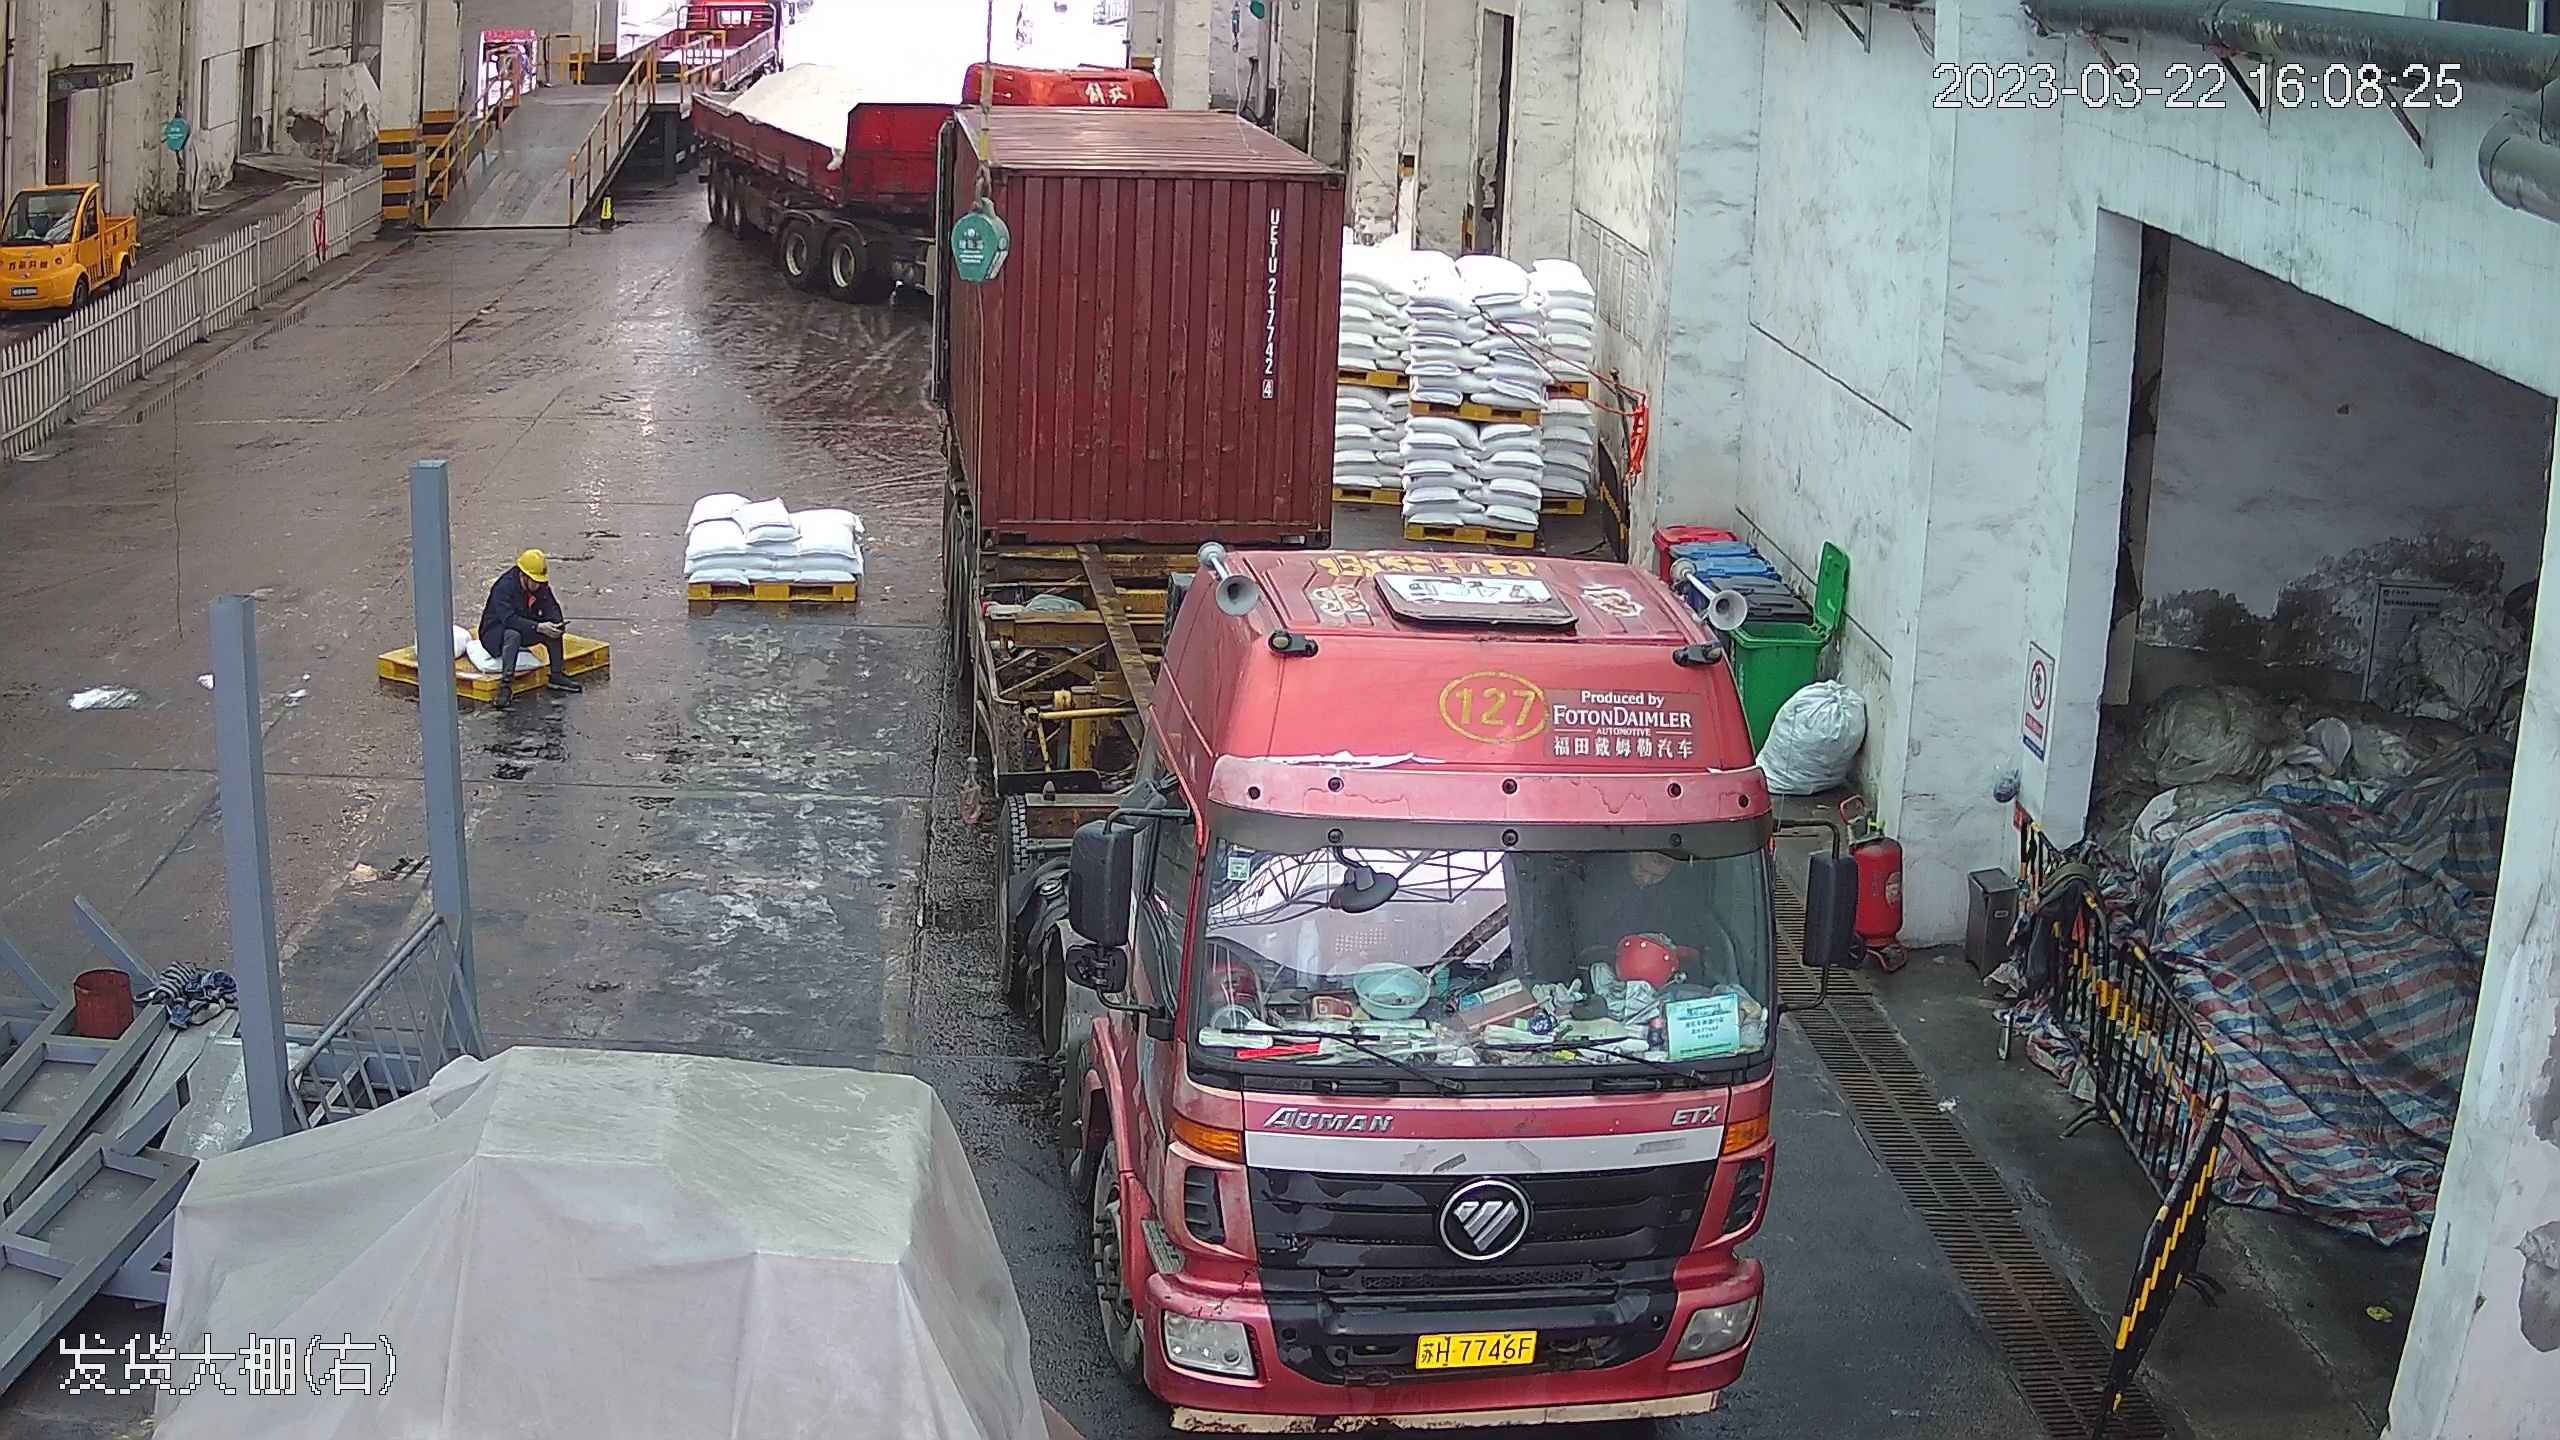head: (491, 544, 556, 606)
helmet: (517, 544, 551, 578)
people: (477, 541, 566, 704)
truck: (917, 6, 1804, 1435)
